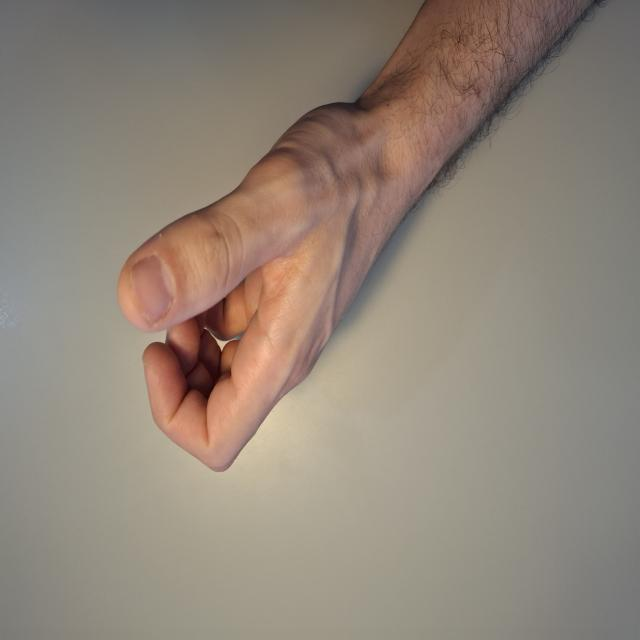glove_off: (116, 82, 432, 473)
